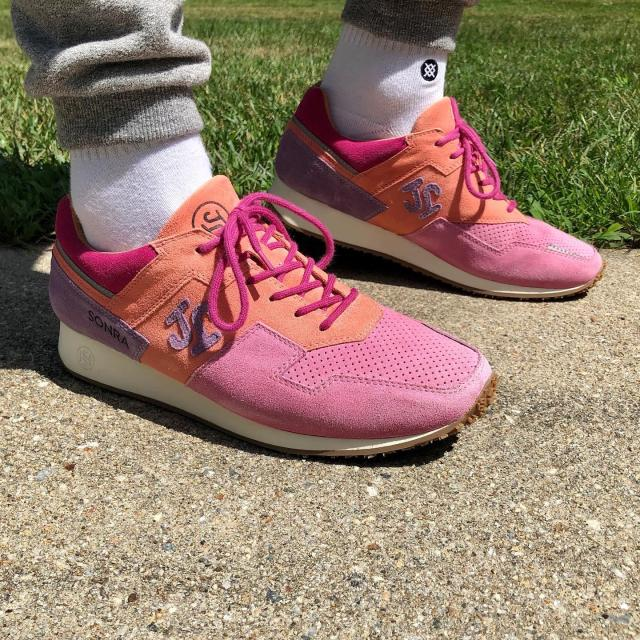shoe: (51, 172, 502, 462), (264, 72, 610, 305)
